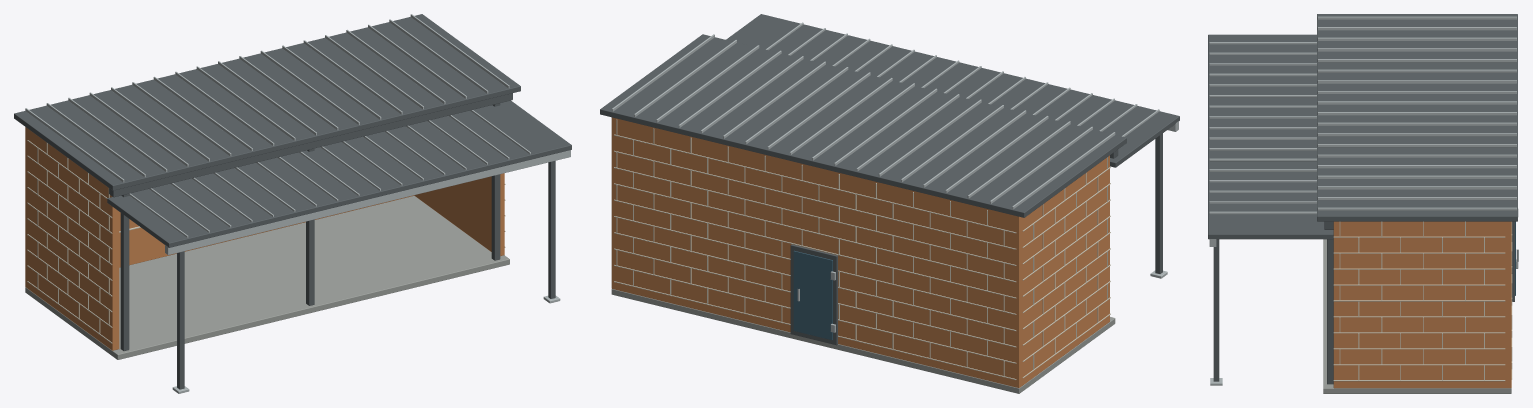
Rendered from glassblowing-studio-and-gallery-roofed-hot-shop-buildi-95aca914__29631.glb.
3 renders of one model, left to right at view 1: azimuth 30°, elevation 25°; view 2: azimuth 150°, elevation 25°; view 3: azimuth 270°, elevation 25°, orthographic. The views are drawn at different scales.
Parts seen in each view (by area): view 1: roofed-hot-shop-building; view 2: roofed-hot-shop-building; view 3: roofed-hot-shop-building.
Part boxes in pixels (<box>): roofed-hot-shop-building: <box>14,14,571,393</box>; roofed-hot-shop-building: <box>600,14,1179,393</box>; roofed-hot-shop-building: <box>1208,14,1518,393</box>.
Size of the model in its own units: 11.45 by 4.87 by 7.42.
